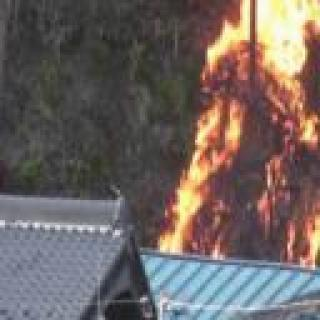fire: (166, 0, 320, 275)
